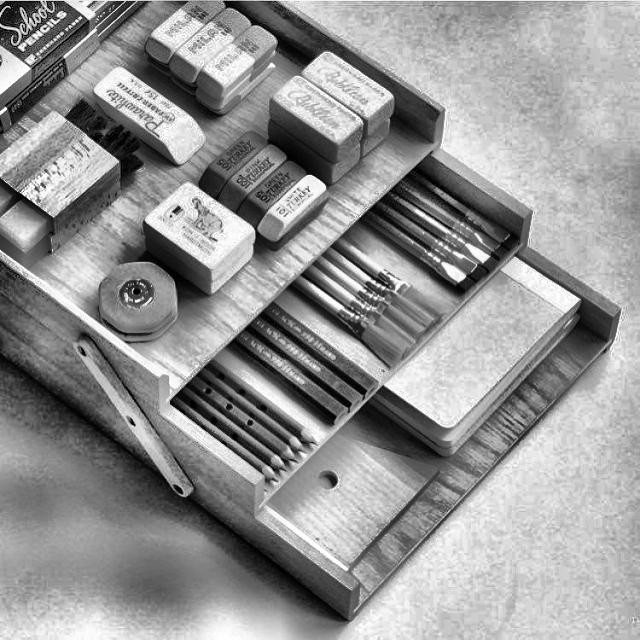eraser: (263, 52, 394, 185), (194, 133, 330, 253), (147, 186, 254, 283), (85, 264, 174, 346)
